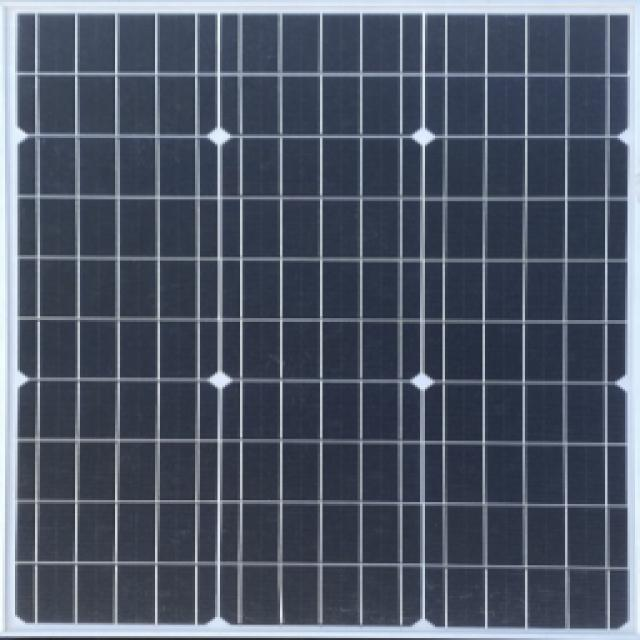clean-solar-panel: (20, 17, 628, 627)
